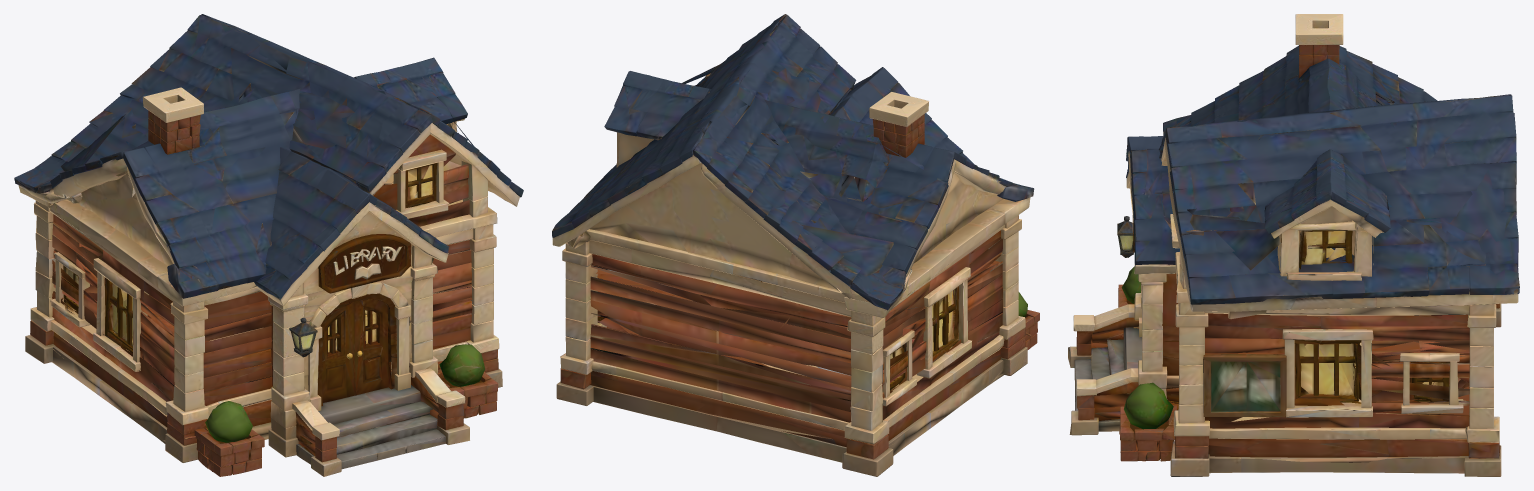
File: library.glb
3 views of the same model, side by side, from view 1: azimuth 30°, elevation 25°; view 2: azimuth 150°, elevation 25°; view 3: azimuth 270°, elevation 25° (orthographic). The views are drawn at different scales.
Parts seen in each view (by area): view 1: geometry_0; view 2: geometry_0; view 3: geometry_0.
Boxes of the visible parts, x1=… form: geometry_0: x1=14, y1=14, x2=523, y2=476; geometry_0: x1=552, y1=14, x2=1039, y2=476; geometry_0: x1=1068, y1=14, x2=1519, y2=476.
Size of the model in its own units: 0.9424 by 0.7397 by 0.9482.
1 material, 1 textured.
